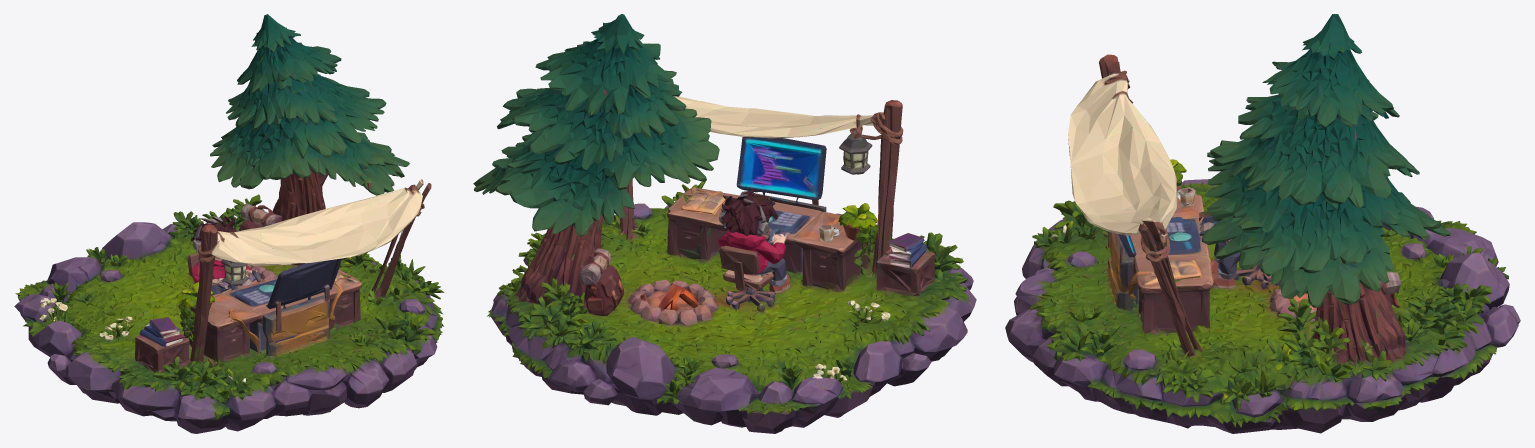
File: island-split.glb
3 renders of one model, left to right at view 1: azimuth 30°, elevation 25°; view 2: azimuth 150°, elevation 25°; view 3: azimuth 270°, elevation 25°, orthographic. The views are drawn at different scales.
Visible parts, largest first — view 1: model_part5, model_part4, model_part2, model_part3, model_part1; view 2: model_part5, model_part4, model_part3, model_part2, model_part1; view 3: model_part5, model_part4, model_part2, model_part3.
Part boxes in pixels (left/top/right/bottom): model_part5: left=14, top=194, right=444, bottom=433; model_part4: left=210, top=14, right=409, bottom=265; model_part2: left=193, top=179, right=431, bottom=360; model_part3: left=176, top=258, right=361, bottom=362; model_part1: left=187, top=215, right=260, bottom=292; model_part5: left=487, top=181, right=976, bottom=433; model_part4: left=473, top=14, right=719, bottom=274; model_part3: left=667, top=137, right=878, bottom=289; model_part2: left=620, top=96, right=903, bottom=277; model_part1: left=718, top=189, right=790, bottom=290; model_part5: left=1005, top=179, right=1520, bottom=433; model_part4: left=1199, top=14, right=1450, bottom=362; model_part2: left=1068, top=54, right=1192, bottom=356; model_part3: left=1107, top=159, right=1216, bottom=328.
Bounding box in the file's own units: 1.9 × 1.48 × 1.86.
1 material, 1 textured.
